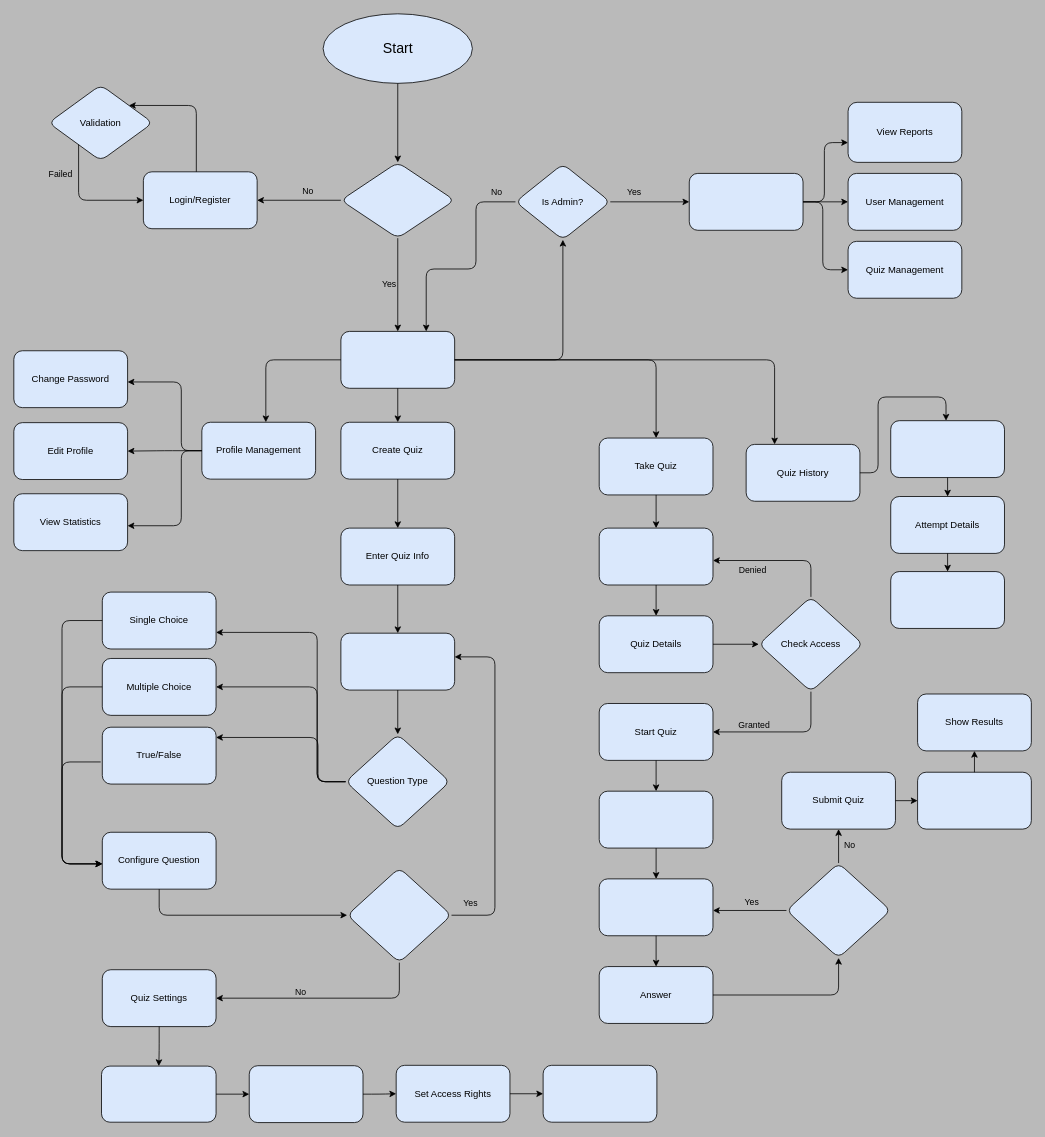
Some shapes in this 1045 by 1137 pixel diagram are drawn without their labels. The centre of each missing label's shape, as x and y in pixels:
Add More?: point (398, 915)
Add Questions: point (397, 661)
Admin Panel: point (745, 201)
Authenticated?: point (397, 200)
Browse Quizzes: point (655, 556)
Calculate Score: point (974, 800)
Display Question: point (655, 907)
Main Menu: point (397, 359)
More Questions?: point (838, 910)
Publish Quiz: point (599, 1093)
Result Analysis: point (947, 599)
Set Scoring: point (305, 1094)
Set Time Limit: point (158, 1093)
Start Timer: point (655, 819)
View Attempts: point (947, 449)
